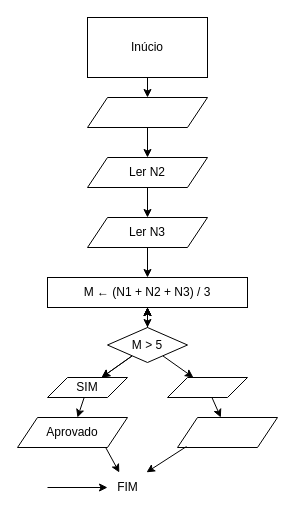
Some shapes in this 295 by 520 pixel diagram are drawn without their labels. The centre of each missing label's shape, as x and y in pixels:
"Ler N1" goes at point 147,112.
"NÃO" goes at point 207,387.
"Reprovado" goes at point 227,432.
